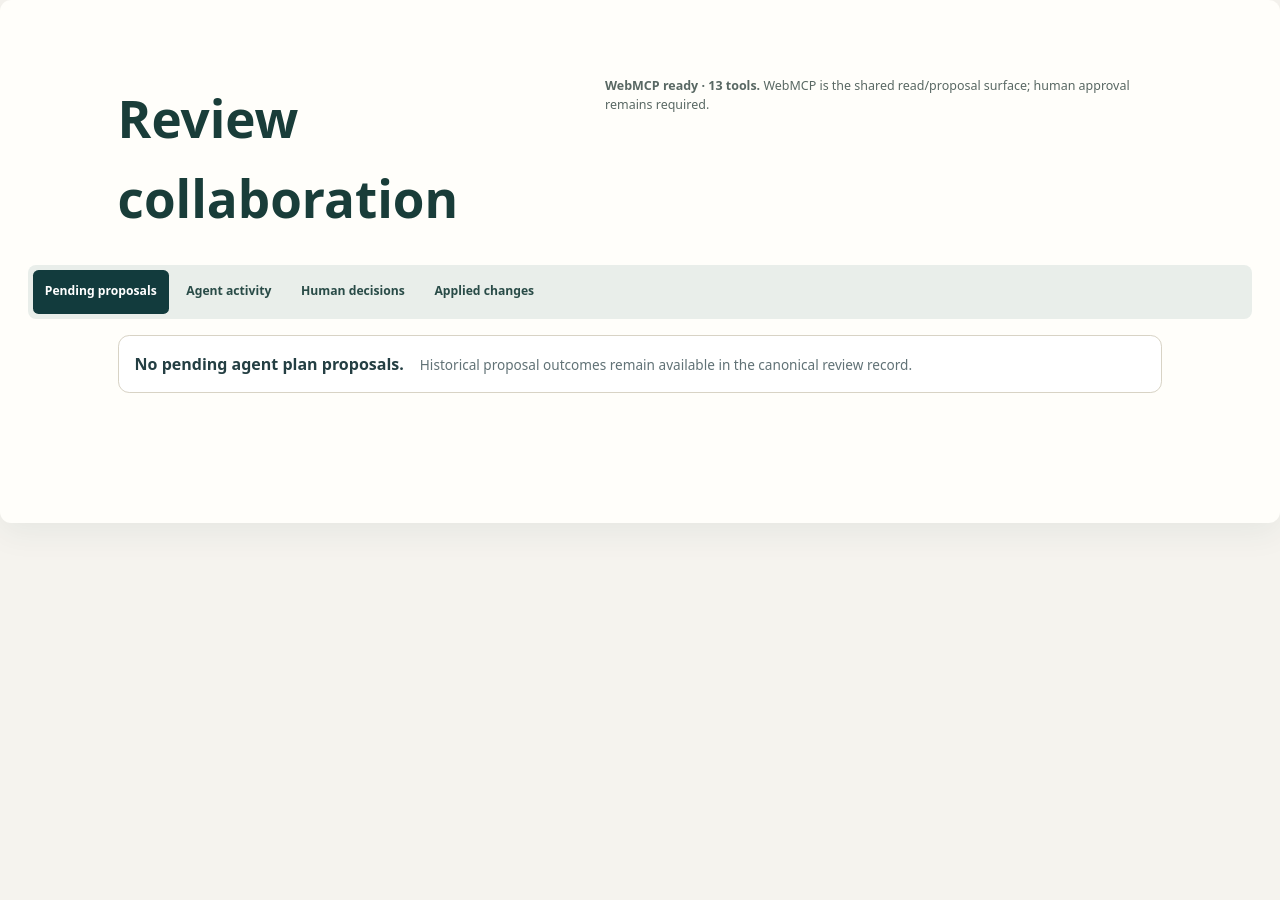
collaboration destination › classifies human, agent and applied activity into exclusive review views
The image size is (1280, 900).
Click the button "Human decisions" at (353, 292), box [289, 270, 417, 314]
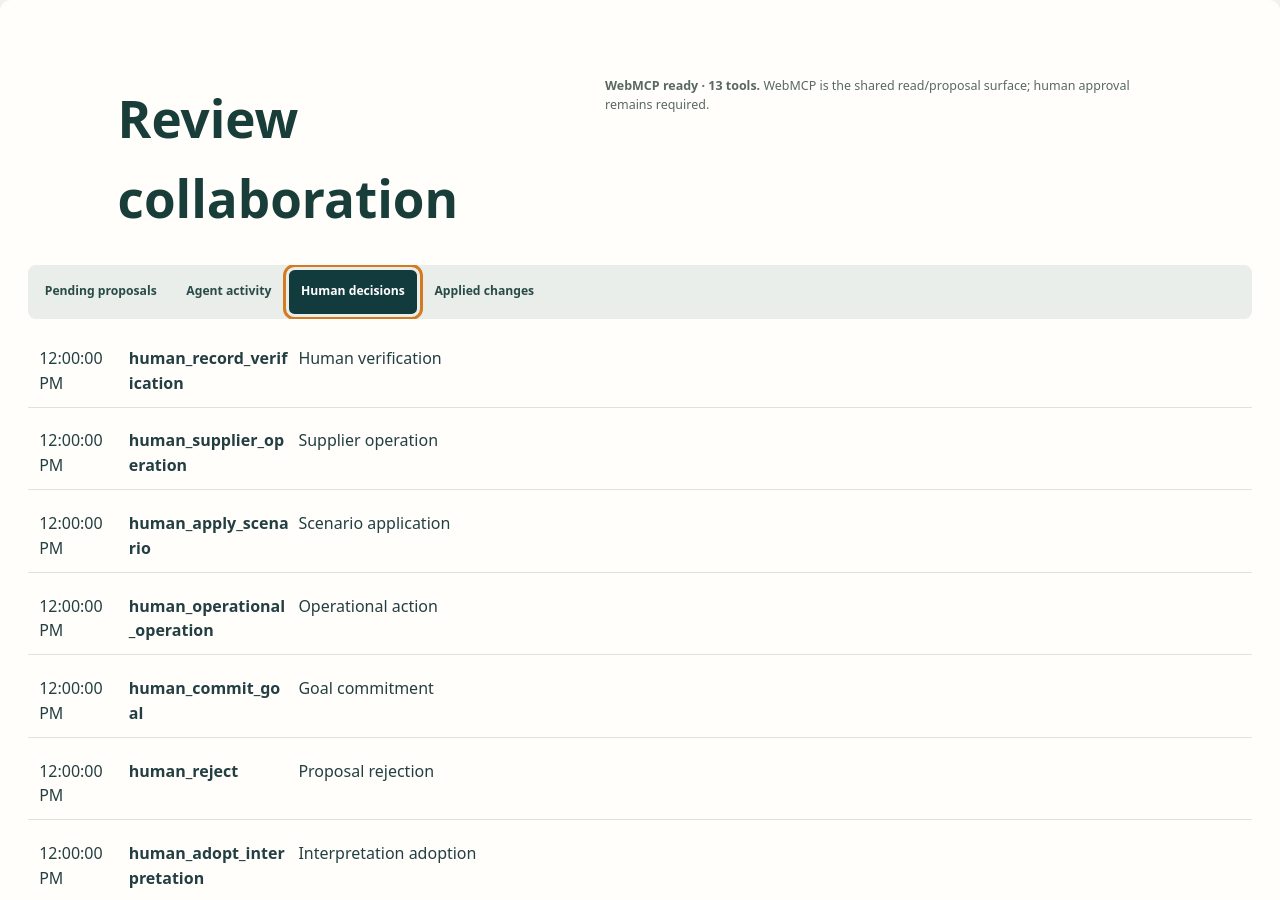
Result: the text "Human verification" is shown at [298, 347, 442, 369]
Result: the text "Supplier operation" is shown at [298, 429, 438, 451]
Result: the text "Scenario application" is shown at [298, 512, 450, 534]
Click the button "Agent activity" at (229, 292), box [174, 270, 283, 314]
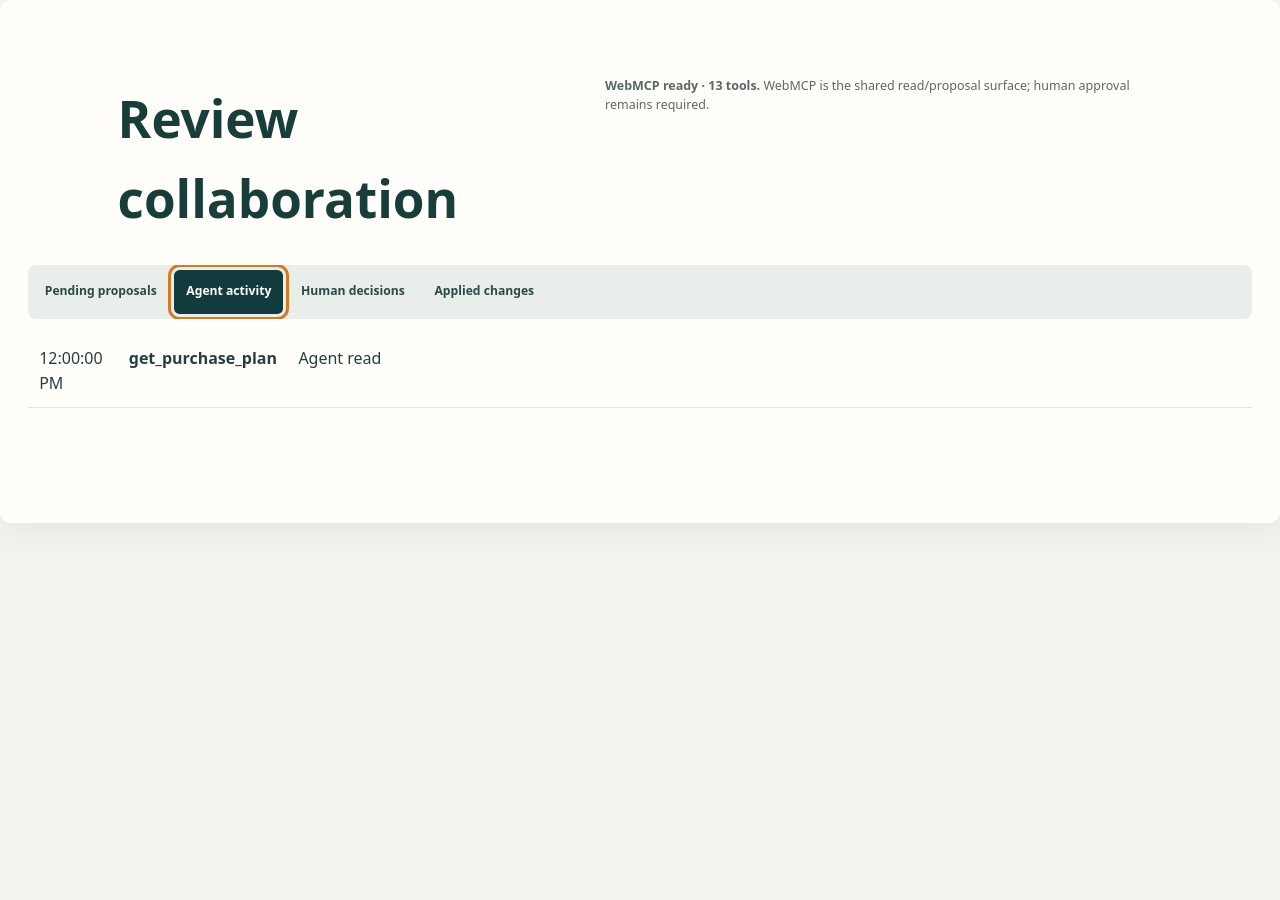
Expected: the text "Applied proposal" is not shown
Result: the text "Agent read" is shown at [298, 347, 381, 369]
Result: the text "Human verification" is gone
Click the button "Applied changes" at (484, 292), box [422, 270, 546, 314]
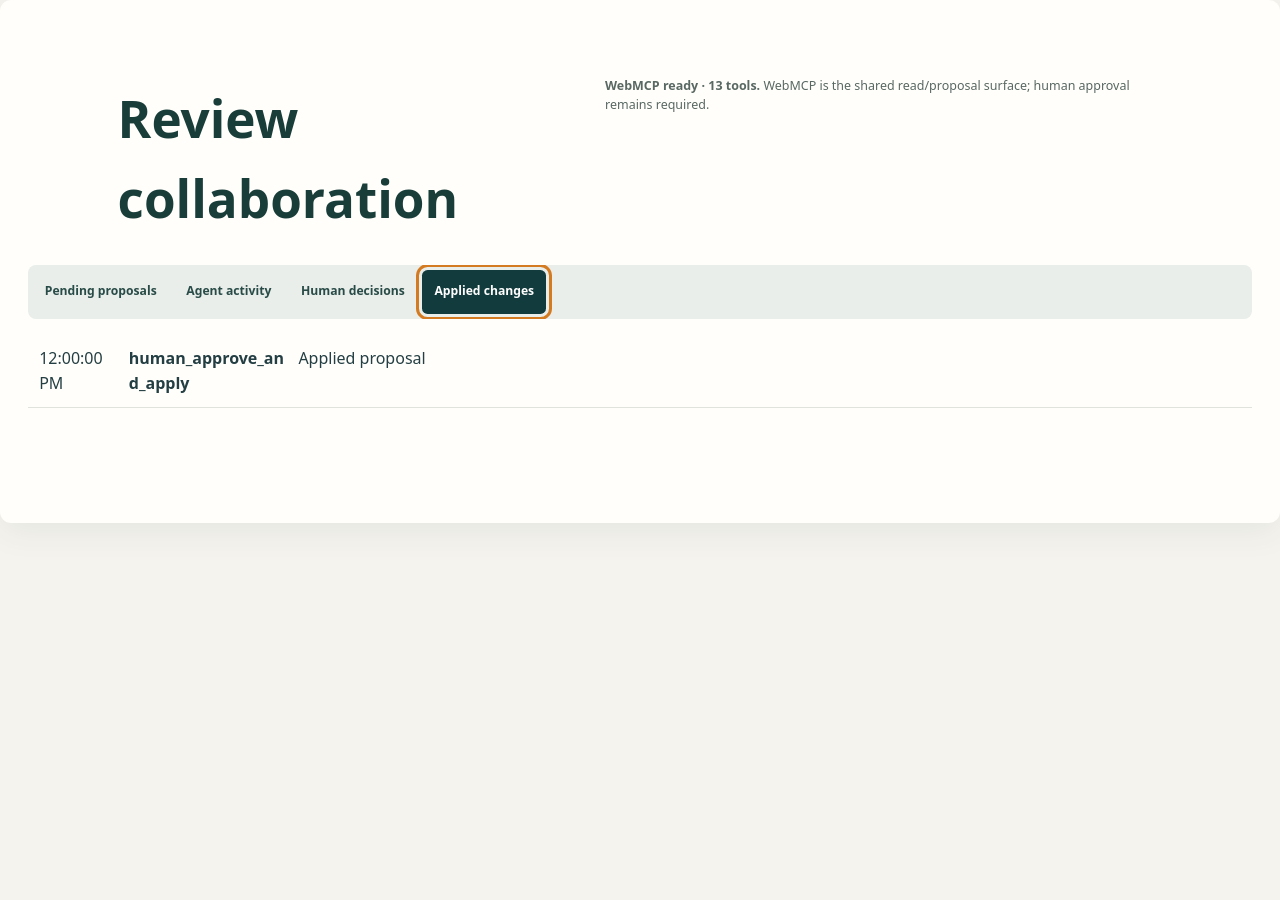
Expected: the text "Human verification" is not shown
Result: the text "Applied proposal" is shown at [298, 347, 426, 369]
Result: the text "Agent read" is gone
